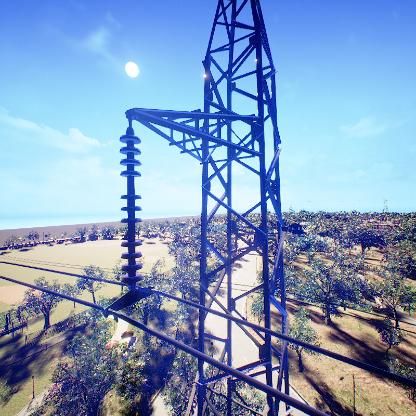insulator: (116, 131, 146, 288)
